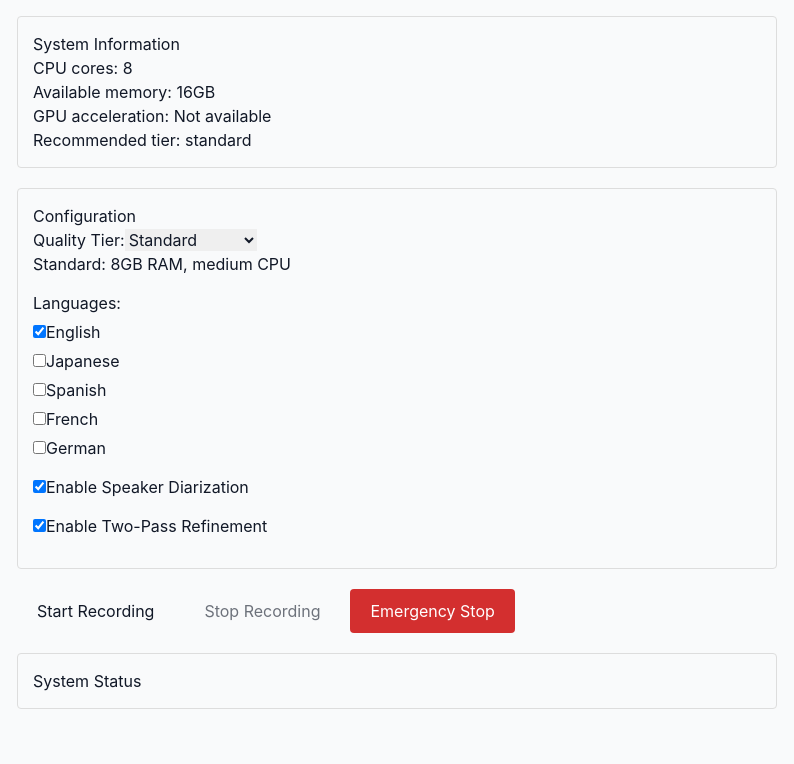
TranscriptionController Component › Configuration Management › should validate configuration before starting session
The image size is (794, 764).
Note: Set invalid configuration (no languages selected)
Click the checkbox with test id "language-en".
click(40, 332)  # box left=33, top=325, right=46, bottom=338
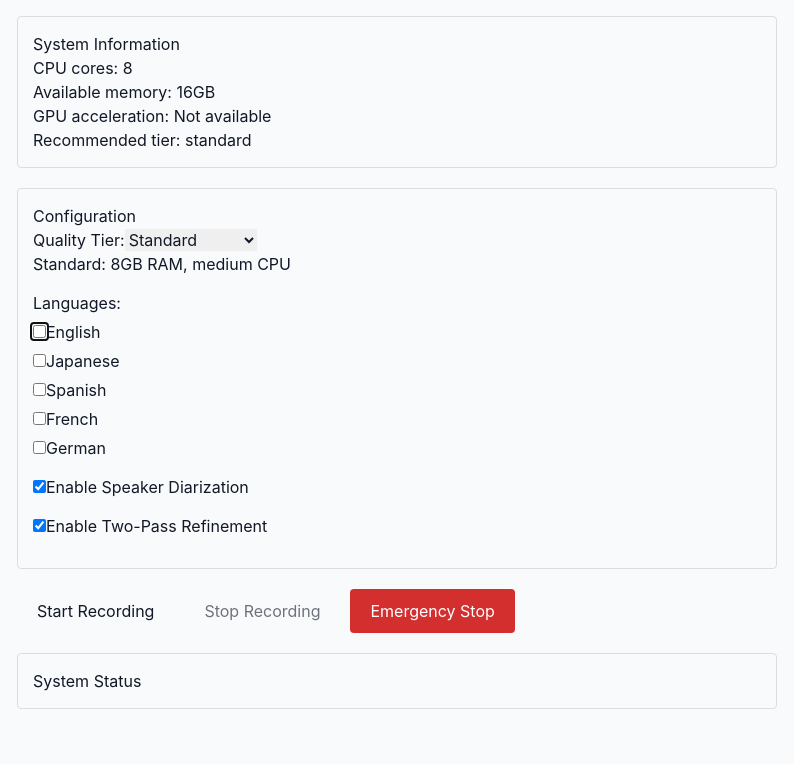
Result: the checkbox with test id "language-en" is not checked at left=33, top=325, right=46, bottom=338
Note: Try to start recording
Click the button with test id "start-recording-button".
click(96, 611)  # box left=17, top=589, right=174, bottom=633
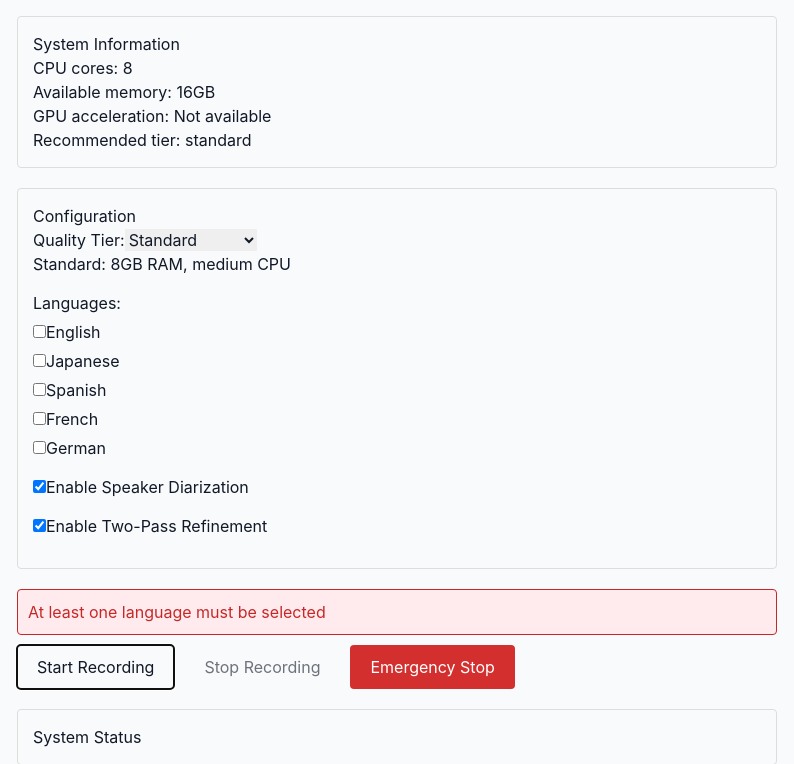
Expected: the button with test id "start-recording-button" is enabled, left=17, top=645, right=174, bottom=689
Result: the text with test id "validation-error" reads "At least one language must be selected" at left=28, top=602, right=326, bottom=622
